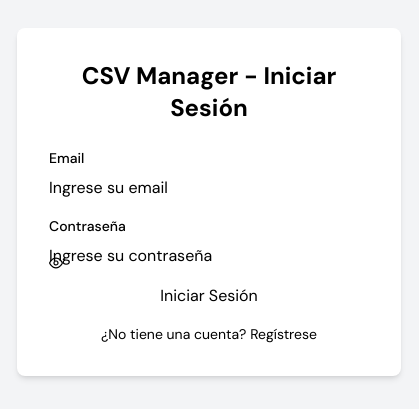
LoginView › shows validation error for invalid email format
The width and height of the screenshot is (419, 409).
In the field labelled "Email": [209, 188] box [49,176,369,200], type "invalid-email"
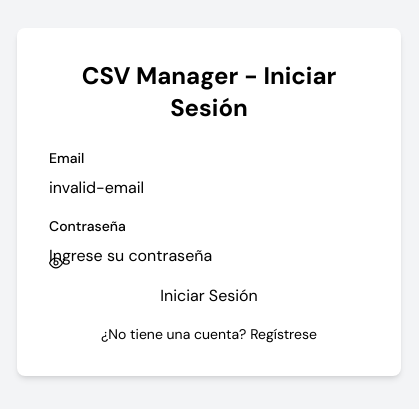
Submit the form, box [49,148,369,308]
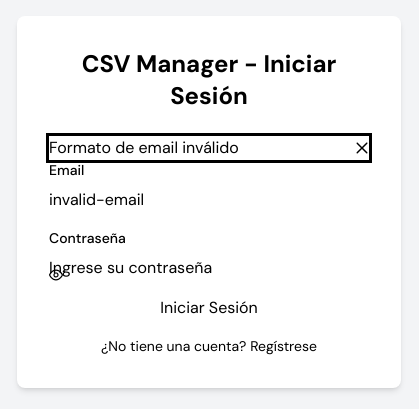
Expected: the text "Formato de email inválido" is shown, [49,136,239,160]
